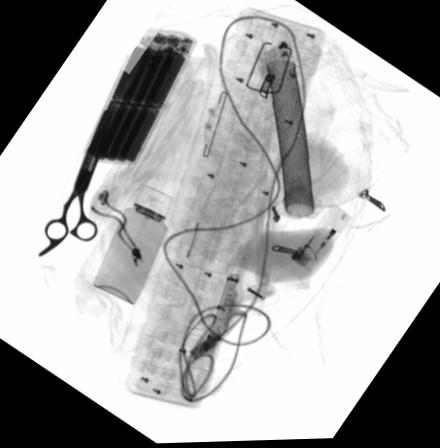Lighter: (290, 201, 352, 275)
Powerbank: (80, 24, 195, 166)
Scissors: (35, 106, 114, 258)
Sprayer: (91, 180, 178, 307)
